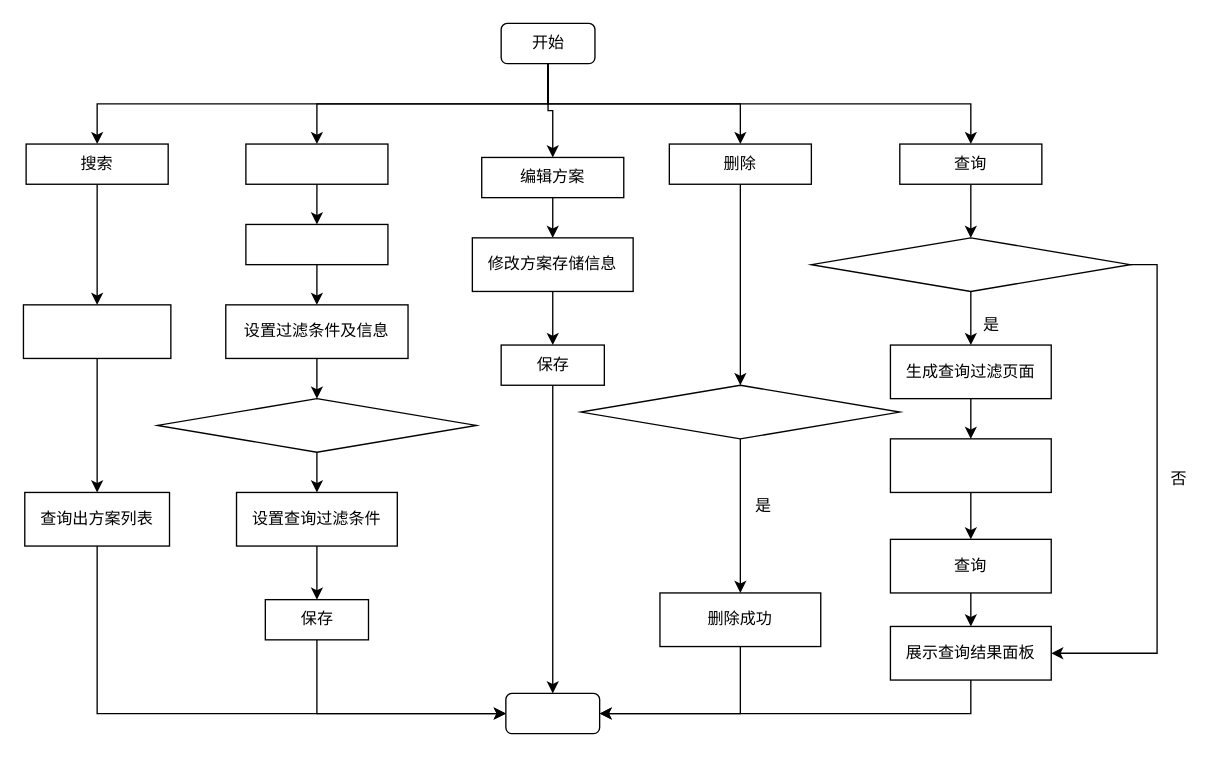
This 1229x757 diagram has some shape labels left out. Each missing label, with the centre of its shape:
"新增方案" belongs at (316,163).
"是否填写下一步" belongs at (316,424).
"是否存在查询组过滤条件" belongs at (970,264).
"是否确认删除方案" belongs at (740,411).
"结束" belongs at (552,713).
"设置过滤条件" belongs at (970,465).
"输入名称关键字" belongs at (96,331).
"选择数据" belongs at (316,244).
